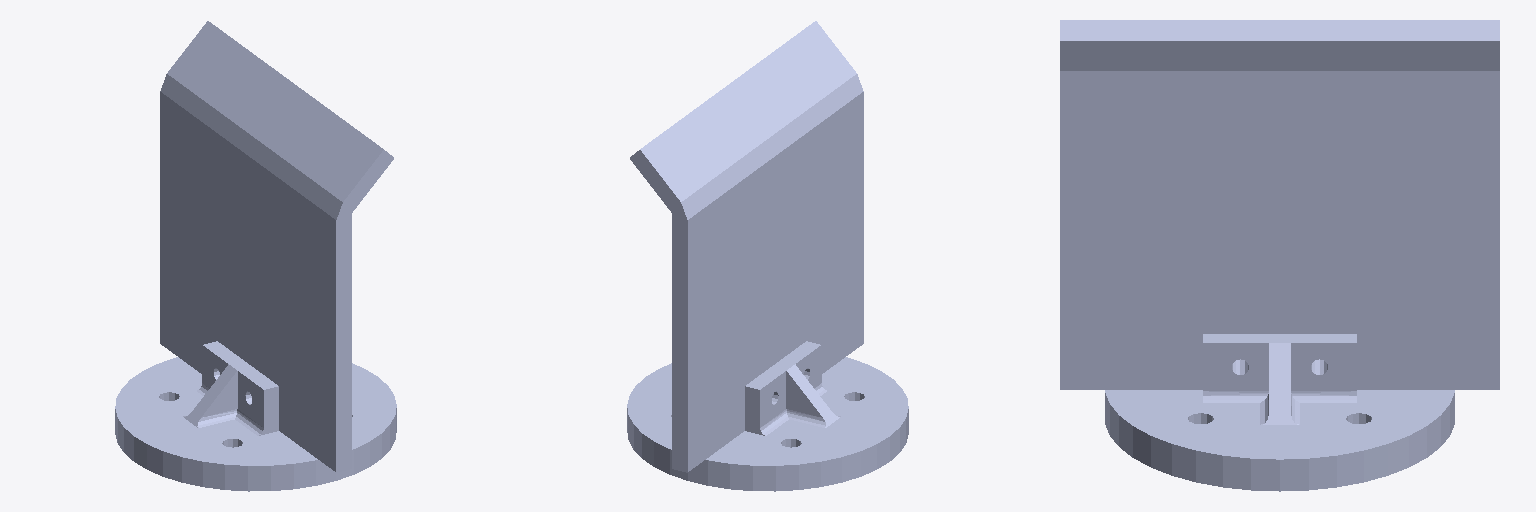
The robot description file, URDF, robot "rigid_fixture":
<?xml version="1.0" encoding="utf-8"?>
<!-- This URDF was automatically created by SolidWorks to URDF Exporter! Originally created by [author] ([email redacted])
     Commit Version: 1.5.1-0-g916b5db  Build Version: 1.5.7152.31018
     For more information, please see http://wiki.ros.org/sw_urdf_exporter -->
<robot
  name="rigid_fixture">
  <link
    name="base_link1">
    <inertial>
      <origin
        xyz="-1.38777878078145E-17 2.60208521396521E-18 0.00532796618497365"
        rpy="0 0 0" />
      <mass
        value="0.0450313033863909" />
      <inertia
        ixx="1.71307951923897E-05"
        ixy="4.33248175276399E-13"
        ixz="-3.17528032255489E-14"
        iyy="1.69375699894751E-05"
        iyz="-8.77417821911473E-23"
        izz="3.23625817577014E-05" />
    </inertial>
    <visual>
      <origin
        xyz="0 0 0"
        rpy="0 0 0" />
      <geometry>
        <mesh
          filename="package://rigid_fixture/meshes/base_link.STL" />
      </geometry>
      <material
        name="">
        <color
          rgba="0.792156862745098 0.819607843137255 0.933333333333333 1" />
      </material>
    </visual>
    <collision>
      <origin
        xyz="0 0 0"
        rpy="0 0 0" />
      <geometry>
        <mesh
          filename="package://rigid_fixture/meshes/base_link.STL" />
      </geometry>
    </collision>
  </link>
  <link
    name="tip_link">
    <inertial>
      <origin
        xyz="-0.0115649782410447 2.60208521396521E-18 -0.0473624878454751"
        rpy="0 0 0" />
      <mass
        value="0.0505916721482552" />
      <inertia
        ixx="8.33145394803497E-05"
        ixy="-6.80931792533148E-22"
        ixz="-3.16098805111095E-06"
        iyy="4.18098391237522E-05"
        iyz="-5.02361476928065E-21"
        izz="4.30035838862597E-05" />
    </inertial>
    <visual>
      <origin
        xyz="0 0 0"
        rpy="0 0 0" />
      <geometry>
        <mesh
          filename="package://rigid_fixture/meshes/tip_link.STL" />
      </geometry>
      <material
        name="">
        <color
          rgba="0.792156862745098 0.819607843137255 0.933333333333333 1" />
      </material>
    </visual>
    <collision>
      <origin
        xyz="0 0 0"
        rpy="0 0 0" />
      <geometry>
        <mesh
          filename="package://rigid_fixture/meshes/tip_link.STL" />
      </geometry>
    </collision>
  </link>
  <joint
    name="rigid_fixture"
    type="fixed">
    <origin
      xyz="0.013107 0 0.10568"
      rpy="0 0 0" />
    <parent
      link="base_link1" />
    <child
      link="tip_link" />
    <axis
      xyz="0 0 0" />
  </joint>
</robot>

--- Render facts (derived) ---
The picture shows the robot from 3 angles, left to right: view 1: azimuth 30°, elevation 25°; view 2: azimuth 150°, elevation 25°; view 3: azimuth 270°, elevation 25°; orthographic projection.
Model rigid_fixture with 2 links and 1 joints (1 fixed), rooted at base_link1, posed all joints at 0.
Links seen in each view (by area): view 1: tip_link, base_link1; view 2: tip_link, base_link1; view 3: tip_link, base_link1.
Boxes of the visible links, <box> form: tip_link: <box>160,21,393,472</box>; base_link1: <box>115,341,396,491</box>; tip_link: <box>630,21,863,472</box>; base_link1: <box>627,341,908,491</box>; tip_link: <box>1060,20,1499,389</box>; base_link1: <box>1105,334,1454,491</box>.
Size in the robot's own frame: 0.08 by 0.1 by 0.1057 metres.
2 mesh visuals loaded from 2 distinct referenced files (2 binary STL).